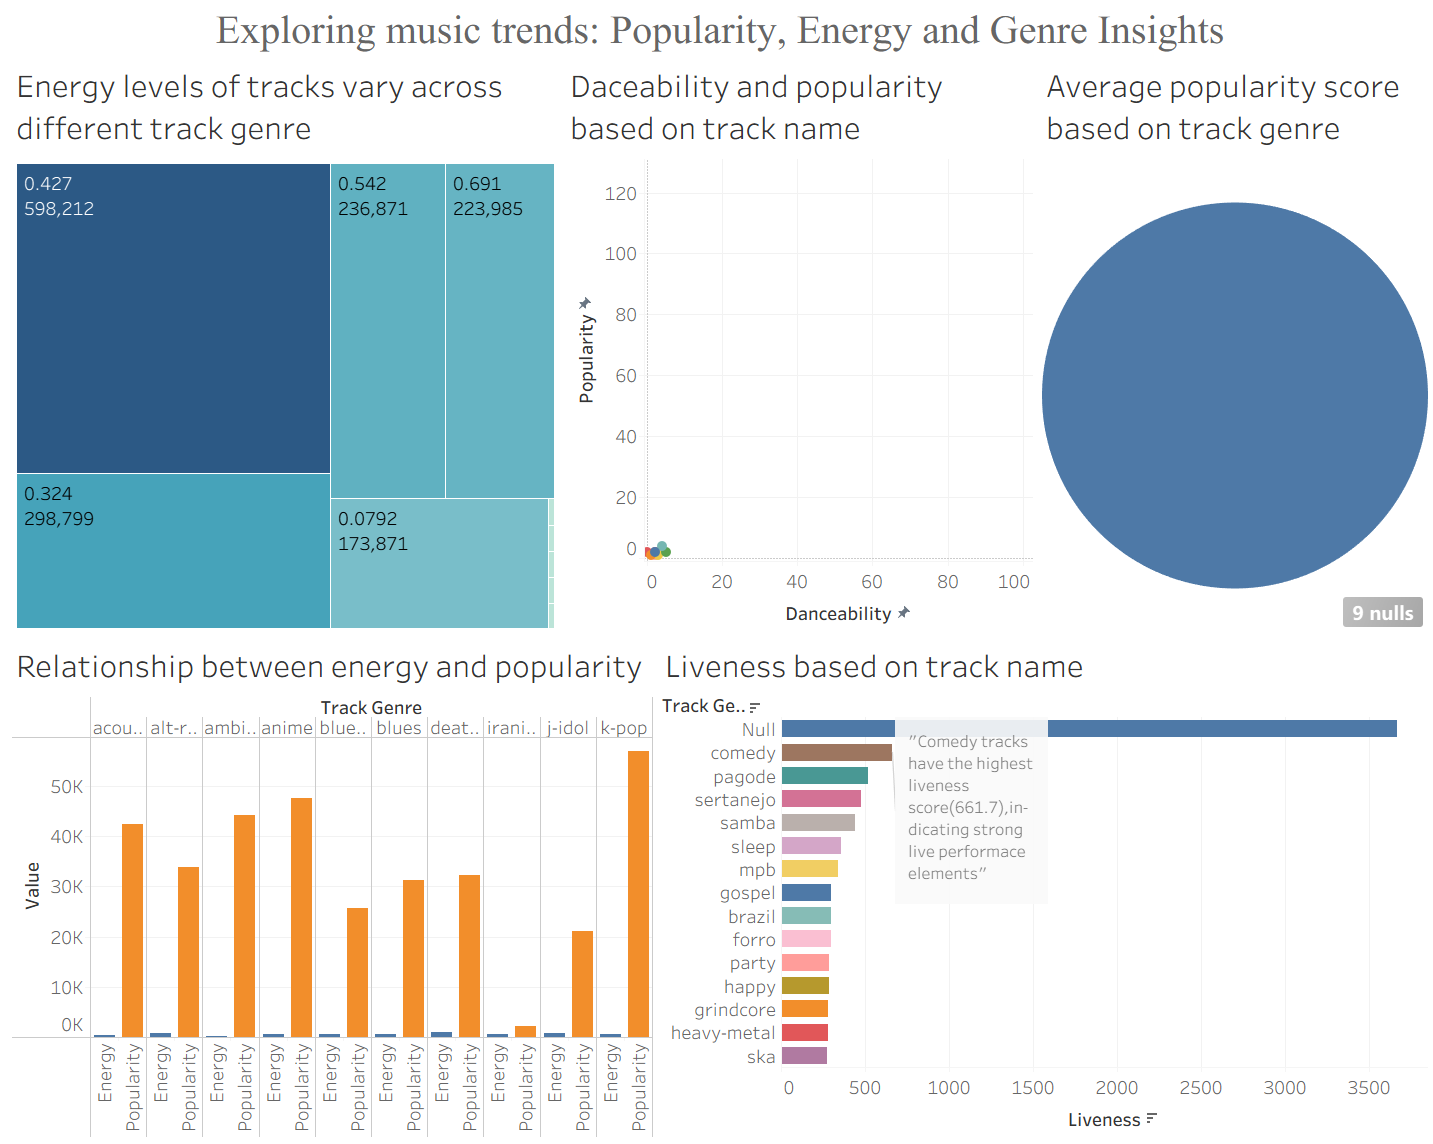

What the dashboard file says about the page in this screenshot:
{"tool":"tableau","page":{"name":"Dashboard 1","canvas":[1000,1000],"units":"permille","ordinal":0},"visuals":[{"type":"title","box":[6.4,10.8,987.3,51.4]},{"type":"worksheet","title":"Sheet 1","mark":"Automatic","box":[6.4,62.2,384.4,495.3]},{"type":"worksheet","title":"Sheet 4","mark":"Circle","rows":["popularity"],"cols":["danceability"],"box":[390.8,62.2,329.6,495.3]},{"type":"worksheet","title":"Sheet 2","mark":"Circle","box":[720.4,62.2,273.2,495.3]},{"type":"worksheet","title":"Sheet 3","mark":"Bar","cols":["track_genre"],"box":[6.4,557.4,450.4,431.8]},{"type":"worksheet","title":"Sheet 5","mark":"Automatic","rows":["track_genre"],"cols":["liveness"],"box":[456.7,557.4,537,431.8]}]}

Visuals, with their boxes on the dashboard's canvas, which has no fixed pixel size, in thousandths of its width and height (x1, y1, x2, y2). These are canvas units, not pixel positions in the 1433x1144 screenshot, which may show the page scaled, cropped or inside an application window:
title: 6 11 994 62
"Sheet 1" worksheet: 6 62 391 558
"Sheet 4" worksheet (Circle marks): 391 62 720 558
"Sheet 2" worksheet (Circle marks): 720 62 994 558
"Sheet 3" worksheet (Bar marks): 6 557 457 989
"Sheet 5" worksheet: 457 557 994 989
